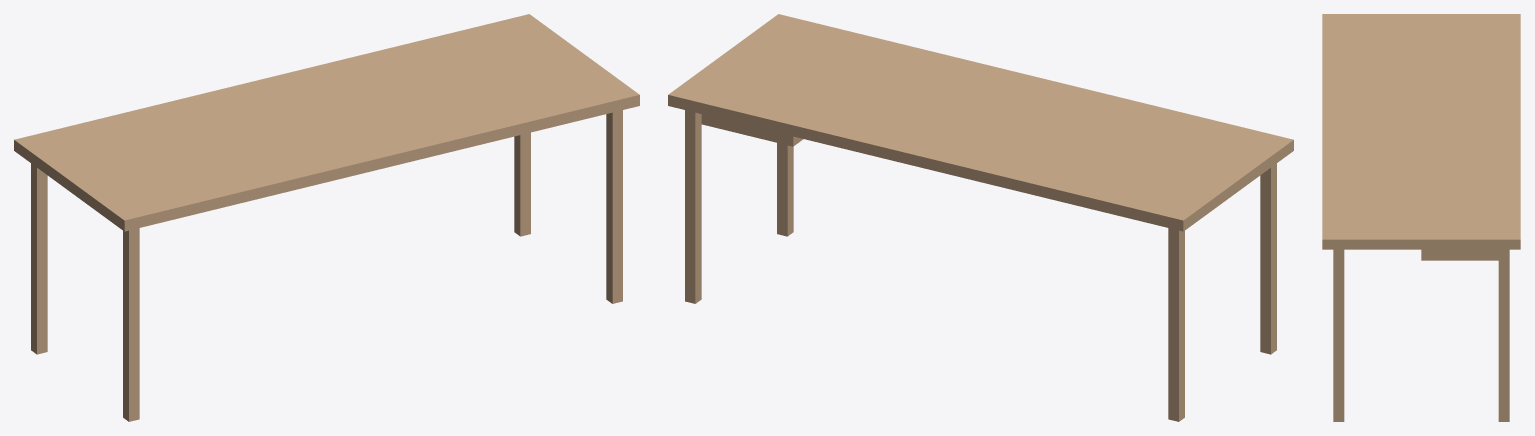
File: desk_10.glb
3 views of the same model, side by side, from view 1: azimuth 30°, elevation 25°; view 2: azimuth 150°, elevation 25°; view 3: azimuth 270°, elevation 25° (orthographic). The views are drawn at different scales.
Size of the model in its own units: 1.94 by 0.75 by 0.72.
